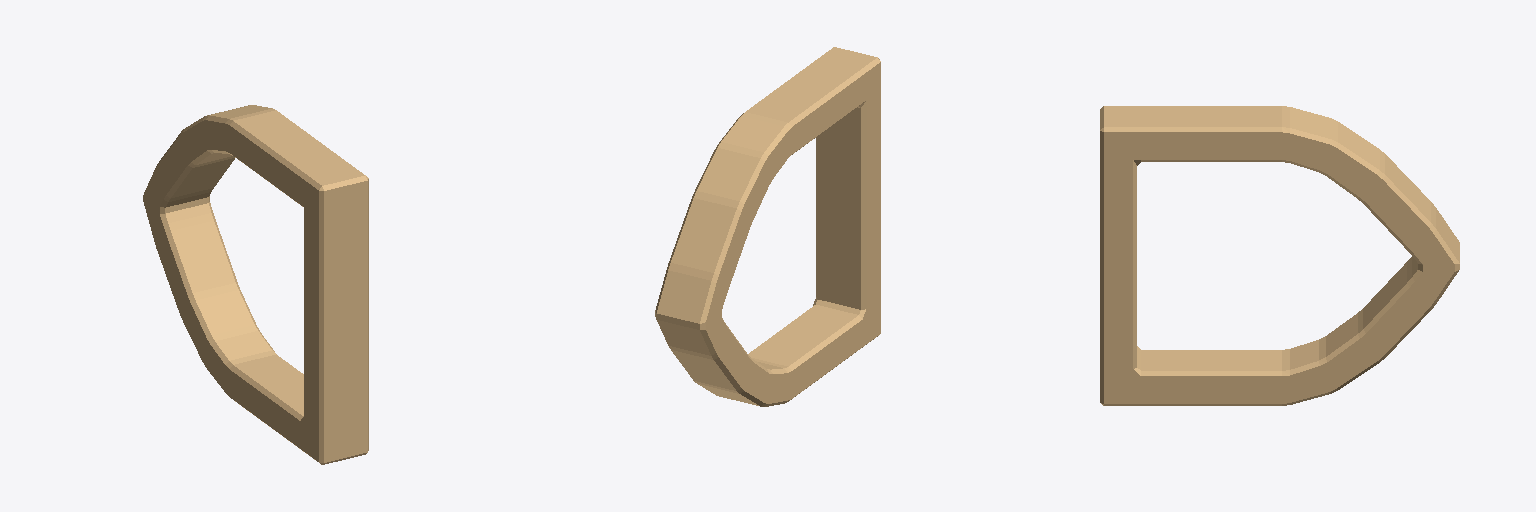
The model's file is artifact_shield.obj.
3 views of the same model, side by side, from view 1: azimuth 30°, elevation 25°; view 2: azimuth 150°, elevation 25°; view 3: azimuth 270°, elevation 25° (orthographic).
Parts seen in each view (by area): view 1: Plane; view 2: Plane; view 3: Plane.
Part boxes in pixels (x1,y1,x2,y2): Plane: (143, 105, 368, 464); Plane: (655, 47, 880, 406); Plane: (1100, 106, 1459, 405).
Size of the model in its own units: 1.05 by 5.59 by 6.53.